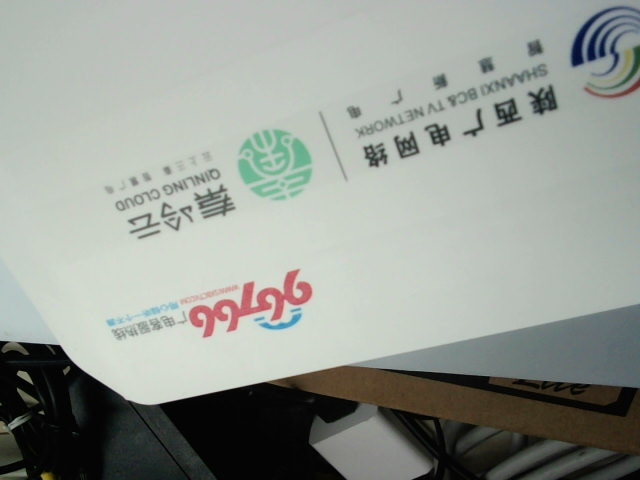QinLing: (87, 121, 316, 247)
